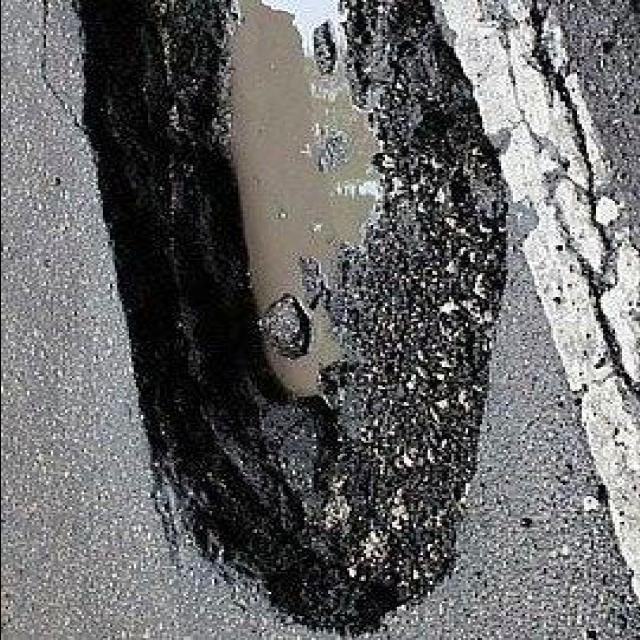jalan retak: (477, 0, 640, 405), (11, 0, 90, 130)
lubang: (78, 0, 514, 631)
